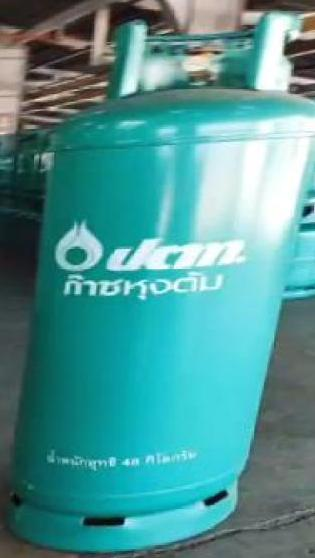cylinder: (1, 1, 315, 558)
